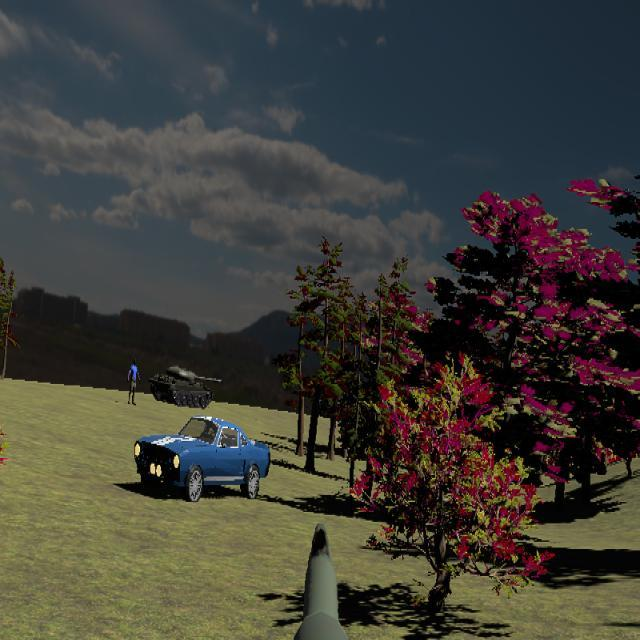Human: (127, 357, 141, 406)
Tank: (149, 362, 223, 409)
car: (134, 415, 271, 502)
